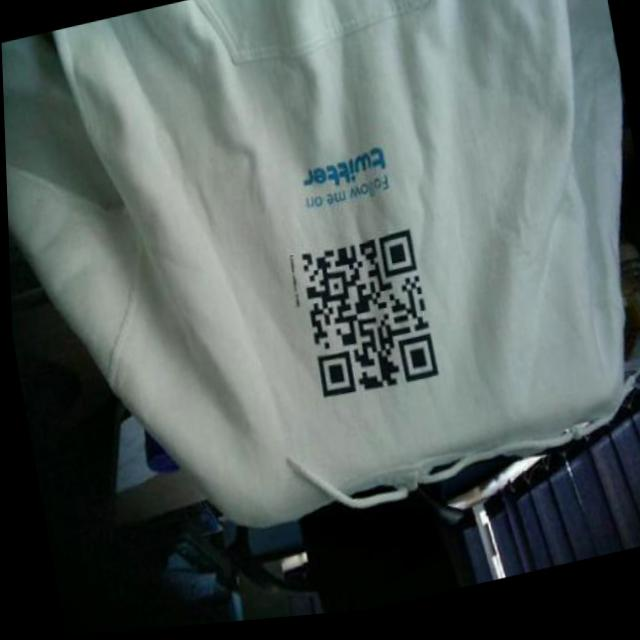qrcode: (297, 236, 436, 409)
